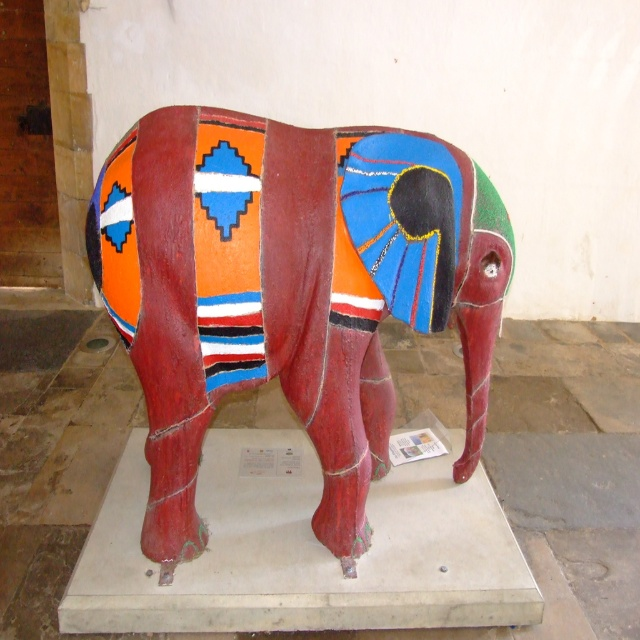Elephant: (84, 99, 516, 562)
